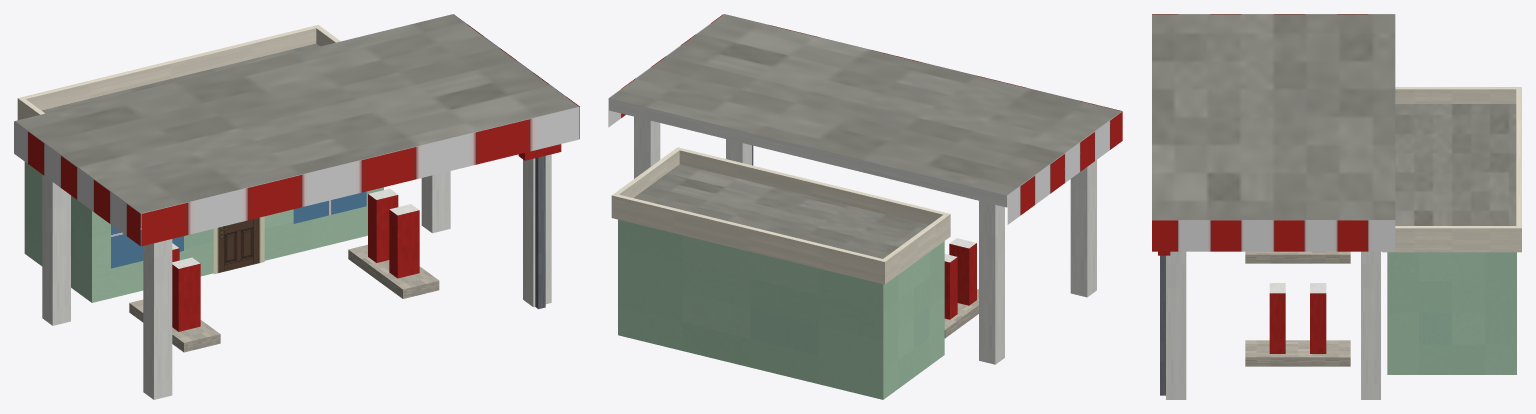
The model's file is filling-mint.glb.
The picture shows the model from 3 angles, left to right: view 1: azimuth 30°, elevation 25°; view 2: azimuth 150°, elevation 25°; view 3: azimuth 270°, elevation 25°; orthographic projection. The views are drawn at different scales.
Parts seen in each view (by area): view 1: filling-mint; view 2: filling-mint; view 3: filling-mint.
Part boxes in pixels (left/top/right/bottom): filling-mint: left=14, top=14, right=579, bottom=399; filling-mint: left=608, top=14, right=1122, bottom=399; filling-mint: left=1152, top=14, right=1521, bottom=399.
Bounding box in the file's own units: 12.04 × 5.15 × 9.14.
Materials: 1 (1 with a texture image).
